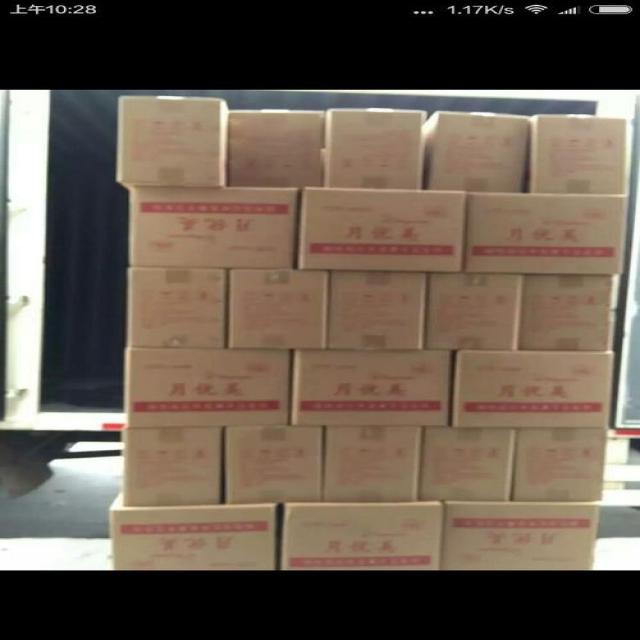box: (127, 187, 304, 266), (300, 188, 465, 272), (467, 192, 630, 274), (114, 494, 283, 570), (127, 350, 289, 427), (452, 352, 612, 428), (292, 352, 453, 423), (279, 501, 439, 571), (439, 502, 597, 570), (115, 96, 226, 186), (125, 265, 234, 348), (424, 113, 528, 195), (120, 427, 223, 505), (322, 424, 424, 502), (229, 270, 329, 348), (328, 272, 426, 351), (327, 111, 426, 189), (527, 117, 627, 194), (225, 427, 325, 504), (228, 110, 325, 188), (423, 275, 521, 352), (517, 276, 615, 351), (509, 429, 607, 502), (420, 428, 513, 503)
